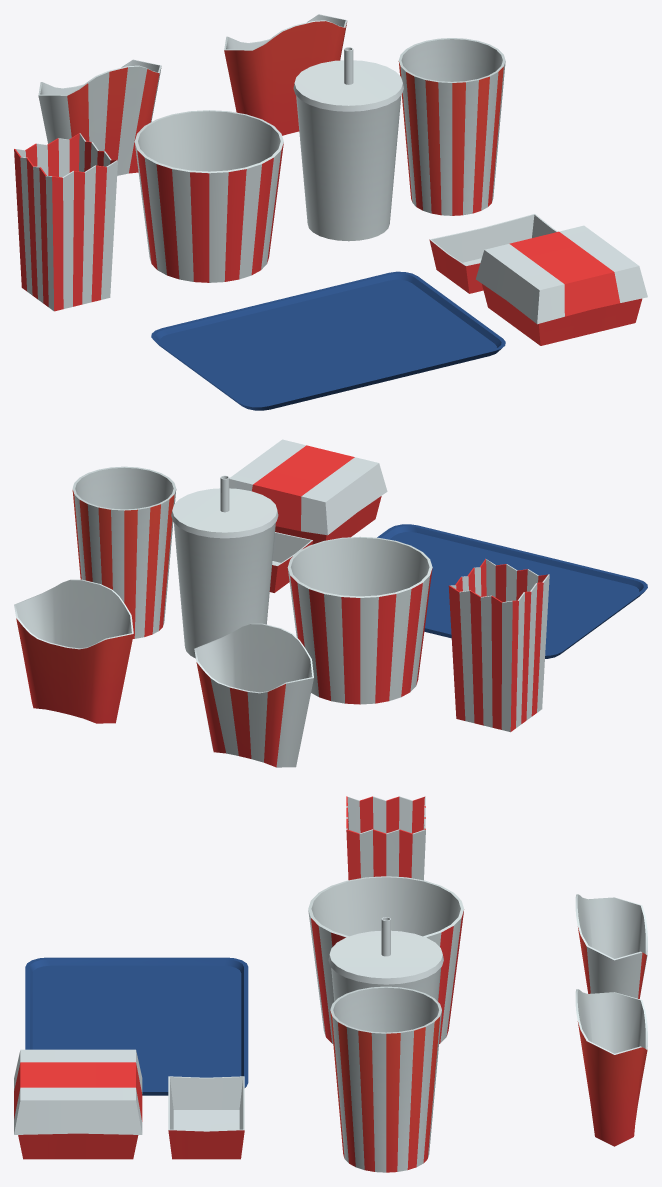
File: fastfood.fbx
The picture shows the model from 3 angles, top to bottom: view 1: azimuth 30°, elevation 25°; view 2: azimuth 150°, elevation 25°; view 3: azimuth 270°, elevation 25°; orthographic projection. The views are drawn at different scales.
Parts seen in each view (by area): view 1: fastfood_Tray, fastfood_Bucket, fastfood_Cup_2, fastfood_Box_Popcorn, fastfood_Cup_1, fastfood_Box_Burger_Top, fastfood_Box_Fires_1, fastfood_Box_Fires_2, fastfood_Cup_Lid, fastfood_Box, fastfood_Box_Burger_Bottom; view 2: fastfood_Bucket, fastfood_Box_Popcorn, fastfood_Box_Fires_2, fastfood_Box_Fires_1, fastfood_Cup_2, fastfood_Tray, fastfood_Cup_1, fastfood_Box_Burger_Top, fastfood_Cup_Lid, fastfood_Box, fastfood_Box_Burger_Bottom; view 3: fastfood_Tray, fastfood_Cup_2, fastfood_Bucket, fastfood_Box_Burger_Top, fastfood_Box_Fires_2, fastfood_Box_Popcorn, fastfood_Box, fastfood_Box_Fires_1, fastfood_Cup_Lid, fastfood_Box_Burger_Bottom, fastfood_Cup_1.
Boxes of the visible parts, box(x1,y1,x2,y2) form: fastfood_Tray: box(151, 271, 505, 410); fastfood_Bucket: box(134, 110, 283, 282); fastfood_Cup_2: box(398, 38, 505, 215); fastfood_Box_Popcorn: box(14, 133, 117, 311); fastfood_Cup_1: box(296, 95, 401, 241); fastfood_Box_Burger_Top: box(476, 225, 647, 324); fastfood_Box_Fires_1: box(38, 59, 161, 175); fastfood_Box_Fires_2: box(224, 14, 347, 135); fastfood_Cup_Lid: box(293, 60, 403, 111); fastfood_Box: box(429, 214, 557, 293); fastfood_Box_Burger_Bottom: box(482, 284, 642, 345); fastfood_Bucket: box(287, 536, 432, 704); fastfood_Box_Popcorn: box(448, 559, 549, 732); fastfood_Box_Fires_2: box(14, 579, 133, 723); fastfood_Box_Fires_1: box(194, 623, 313, 767); fastfood_Cup_2: box(72, 466, 176, 638); fastfood_Tray: box(377, 524, 647, 658); fastfood_Cup_1: box(173, 522, 275, 658); fastfood_Box_Burger_Top: box(229, 439, 387, 535); fastfood_Cup_Lid: box(171, 488, 278, 538); fastfood_Box: box(269, 532, 313, 592); fastfood_Box_Burger_Bottom: box(275, 496, 381, 544); fastfood_Tray: box(25, 957, 248, 1095); fastfood_Cup_2: box(330, 986, 441, 1172); fastfood_Bucket: box(308, 876, 464, 1043); fastfood_Box_Burger_Top: box(14, 1049, 142, 1134); fastfood_Box_Fires_2: box(575, 989, 647, 1146); fastfood_Box_Popcorn: box(346, 796, 425, 880); fastfood_Box: box(168, 1076, 244, 1159); fastfood_Box_Fires_1: box(575, 894, 647, 998); fastfood_Cup_Lid: box(328, 930, 443, 984); fastfood_Box_Burger_Bottom: box(18, 1133, 138, 1159); fastfood_Cup_1: box(331, 967, 441, 1001).
Size of the model in its own units: 3.53 by 3.98 by 1.27.
